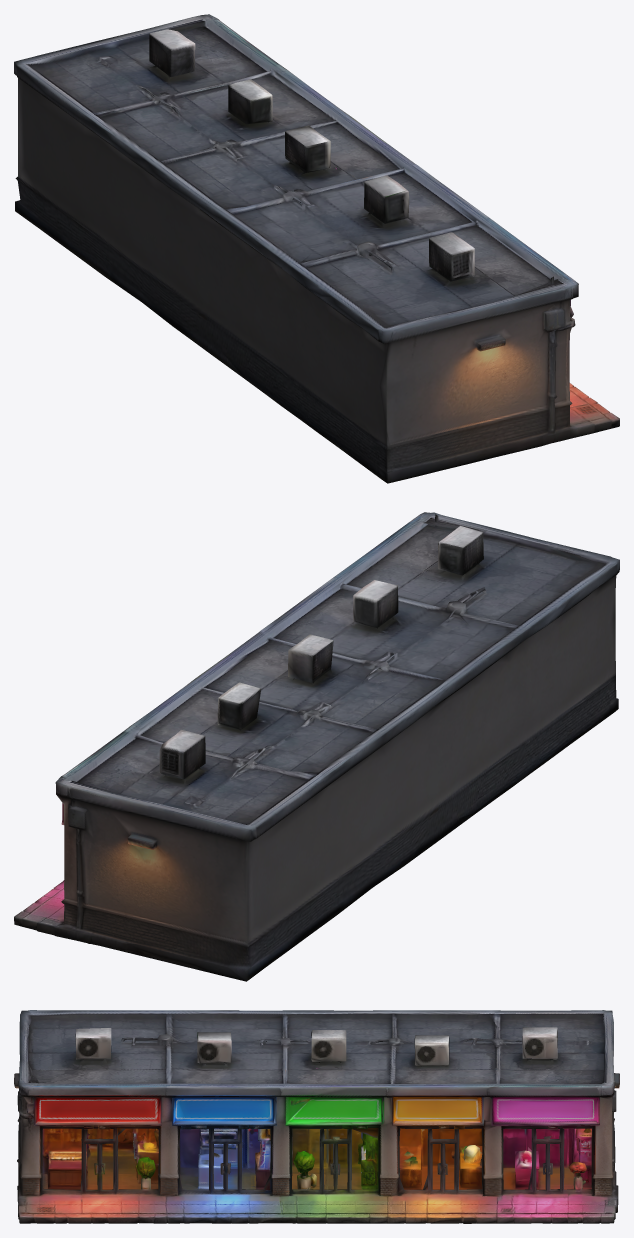
Rendered from shop_row.glb.
3 renders of one model, top to bottom at view 1: azimuth 30°, elevation 25°; view 2: azimuth 150°, elevation 25°; view 3: azimuth 270°, elevation 25°, orthographic. The views are drawn at different scales.
Parts seen in each view (by area): view 1: tripo_node_283f669c-d05a-4f49-8bc7-89fa5b8f0634; view 2: tripo_node_283f669c-d05a-4f49-8bc7-89fa5b8f0634; view 3: tripo_node_283f669c-d05a-4f49-8bc7-89fa5b8f0634.
Boxes of the visible parts, x1=… form: tripo_node_283f669c-d05a-4f49-8bc7-89fa5b8f0634: x1=14, y1=14, x2=619, y2=483; tripo_node_283f669c-d05a-4f49-8bc7-89fa5b8f0634: x1=14, y1=512, x2=619, y2=981; tripo_node_283f669c-d05a-4f49-8bc7-89fa5b8f0634: x1=14, y1=1010, x2=619, y2=1223.
Size of the model in its own units: 0.3622 by 0.2647 by 1.
1 material, 1 textured.
